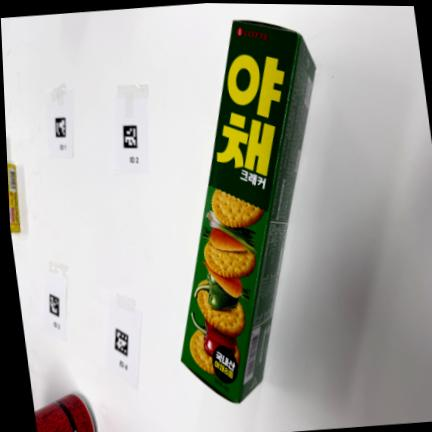cracker_vege: (181, 21, 316, 402)
